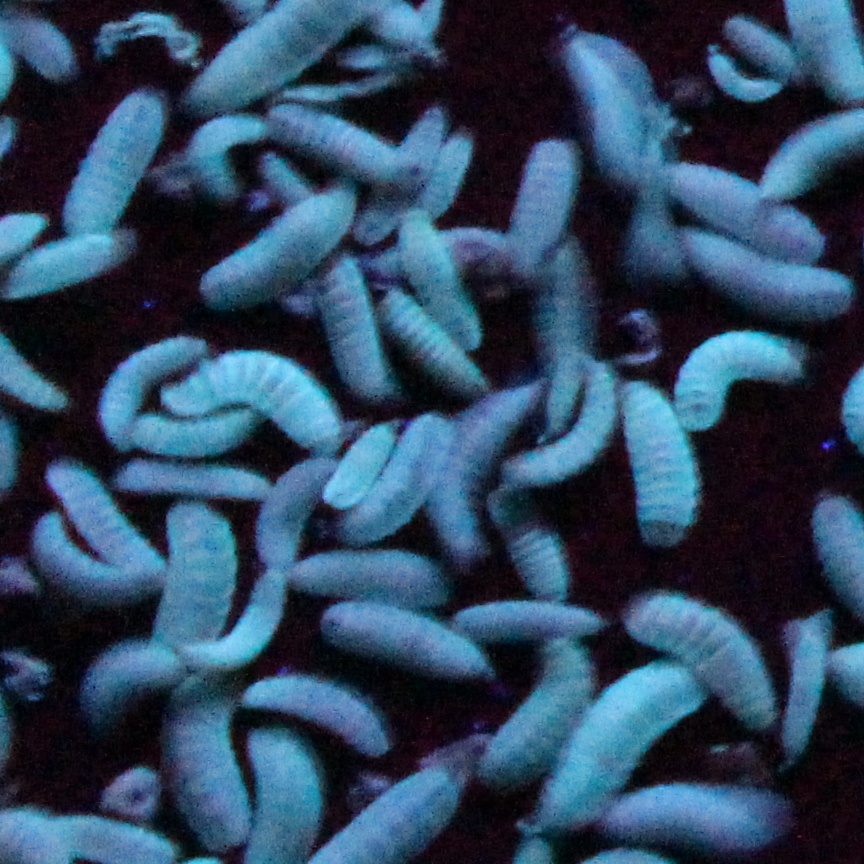larve: (534, 659, 708, 830), (626, 592, 777, 733), (155, 342, 338, 457), (425, 380, 537, 565), (472, 634, 595, 793), (202, 188, 358, 312), (140, 500, 239, 688), (162, 656, 255, 854), (326, 413, 455, 549), (679, 227, 859, 323), (667, 156, 824, 264), (62, 88, 167, 243), (260, 109, 435, 202), (95, 328, 219, 454), (559, 33, 660, 187), (45, 457, 169, 582), (319, 600, 494, 686), (615, 377, 700, 549), (673, 330, 808, 434), (237, 672, 398, 759), (508, 359, 620, 482), (349, 110, 448, 248), (30, 513, 168, 606), (394, 208, 485, 349), (312, 250, 394, 397), (175, 569, 290, 672), (535, 239, 596, 430), (72, 639, 188, 739), (1, 226, 136, 309), (505, 135, 578, 279), (283, 544, 452, 604), (486, 485, 567, 604), (185, 104, 273, 209), (252, 455, 328, 575), (363, 225, 518, 283), (774, 612, 830, 760), (113, 460, 273, 506), (448, 599, 612, 643), (322, 420, 400, 512), (723, 14, 809, 87), (1, 326, 70, 410), (706, 46, 793, 108), (4, 18, 80, 79), (1, 216, 44, 264)
